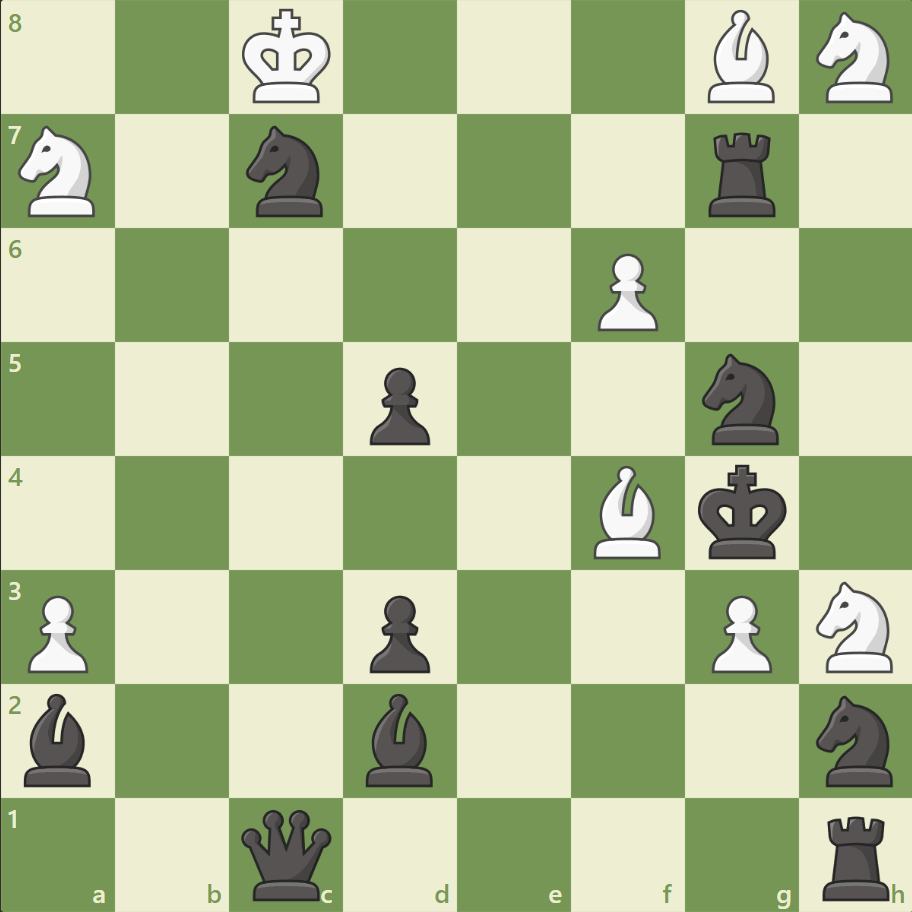B: (698, 6, 782, 109), (585, 460, 669, 563)
K: (238, 4, 338, 112)
N: (806, 7, 903, 110), (11, 121, 108, 223), (806, 575, 903, 677)
P: (20, 586, 95, 677), (701, 586, 776, 677), (588, 246, 662, 337)
b: (17, 687, 101, 790), (358, 687, 442, 790)
k: (692, 458, 792, 566)
n: (806, 688, 903, 791), (238, 121, 335, 223), (692, 348, 789, 450)
p: (361, 359, 435, 450), (361, 586, 435, 677)
q: (237, 804, 336, 903)
r: (814, 806, 897, 904), (700, 125, 783, 222)
